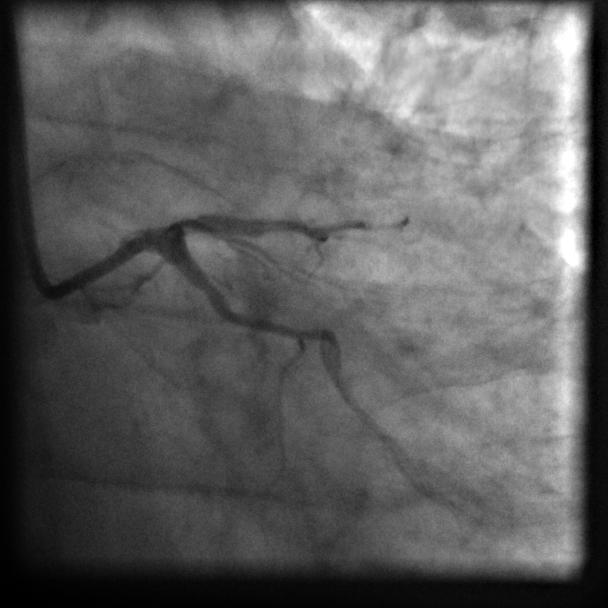Stenosis: (234, 301, 322, 346)
